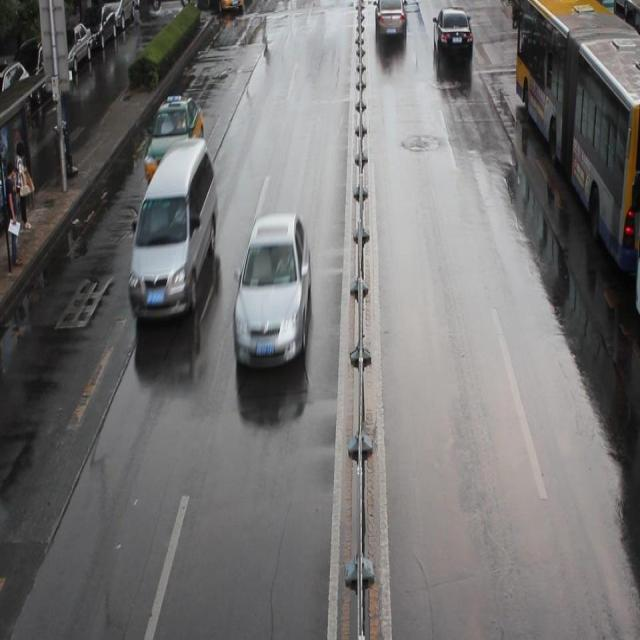car: (233, 215, 311, 368), (144, 96, 204, 188), (431, 8, 472, 62), (374, 1, 406, 39)
truck: (128, 138, 218, 318)
van: (514, 1, 640, 274), (633, 247, 640, 315)
